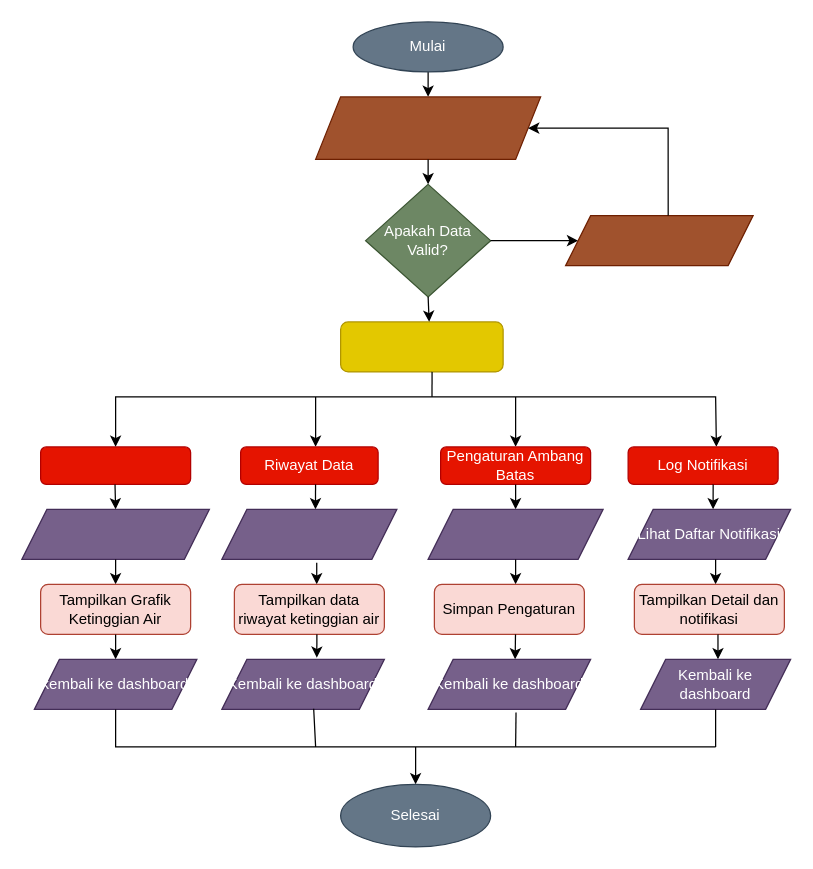
Image size: 813x869. Some labels were removed from this diagram. Each missing label, with the centre of its shape:
Dashboard Real-time: (421,346)
Grafik Tren: (115,465)
lihat data berdasarkan periode: (115,533)
Masukkan email Username dan Password: (427,127)
Pilih tanggal atau periode: (309,533)
Tampilkan Pesan Error: (658,240)
Ubah Nilai Ambang batas (rendah/tinggi): (515,533)
